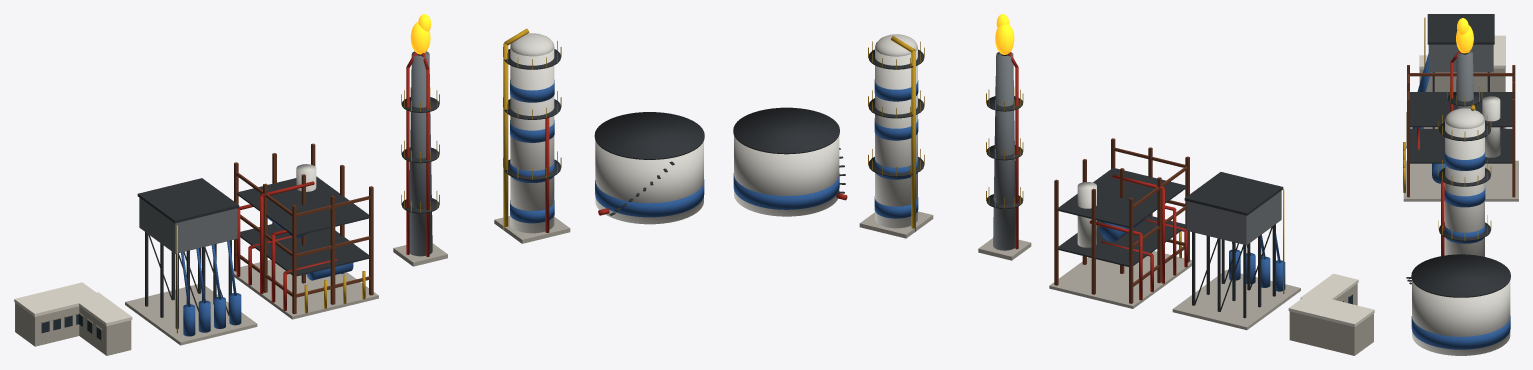
Rendered from refinaria.glb.
3 renders of one model, left to right at view 1: azimuth 30°, elevation 25°; view 2: azimuth 150°, elevation 25°; view 3: azimuth 270°, elevation 25°, orthographic. The views are drawn at different scales.
Parts seen in each view (by area): view 1: tanque, coluna, borda, coluna.001, piso_grade.001, base.002, reservatorio, base.003, piso_grade, borda.001, bloco, faixa (+16 smaller); view 2: tanque, coluna, borda, coluna.001, base.002, base.003, piso_grade.001, reservatorio, borda.001, bloco, piso_grade, faixa (+16 smaller); view 3: tanque, coluna, borda, base.002, piso_grade.001, borda.001, piso_grade, reservatorio, faixa, coluna.001, vaso_v, coluna_topo (+19 smaller).
Boxes of the visible parts, box(x1,y1,x2,y2) form: tanque: box(595, 141, 703, 224); coluna: box(510, 45, 554, 233); borda: box(594, 112, 704, 159); coluna.001: box(409, 51, 432, 256); piso_grade.001: box(237, 176, 369, 235); base.002: box(233, 259, 378, 319); reservatorio: box(139, 197, 237, 253); base.003: box(125, 284, 257, 345); piso_grade: box(240, 224, 369, 276); borda.001: box(137, 178, 239, 223); bloco: box(15, 303, 79, 346); faixa: box(595, 179, 704, 217); tanque: box(734, 135, 839, 216); coluna: box(875, 46, 917, 228); borda: box(733, 107, 839, 154); coluna.001: box(993, 52, 1015, 250); base.002: box(1049, 251, 1191, 308); base.003: box(1172, 270, 1300, 330); piso_grade.001: box(1058, 168, 1186, 227); reservatorio: box(1186, 191, 1281, 245); borda.001: box(1184, 172, 1283, 215); bloco: box(1289, 311, 1373, 355); piso_grade: box(1058, 216, 1186, 266); faixa: box(733, 173, 839, 209); tanque: box(1412, 280, 1510, 355); coluna: box(1445, 121, 1484, 256); borda: box(1411, 254, 1510, 297); base.002: box(1403, 160, 1518, 201); piso_grade.001: box(1410, 92, 1512, 127); borda.001: box(1427, 14, 1494, 44); piso_grade: box(1410, 128, 1512, 163); reservatorio: box(1428, 44, 1493, 72); faixa: box(1411, 316, 1510, 349); coluna.001: box(1456, 51, 1473, 109); vaso_v: box(1482, 96, 1500, 157); coluna_topo: box(1445, 108, 1484, 128).
Size of the model in its own units: 68.51 by 23.98 by 11.54.
